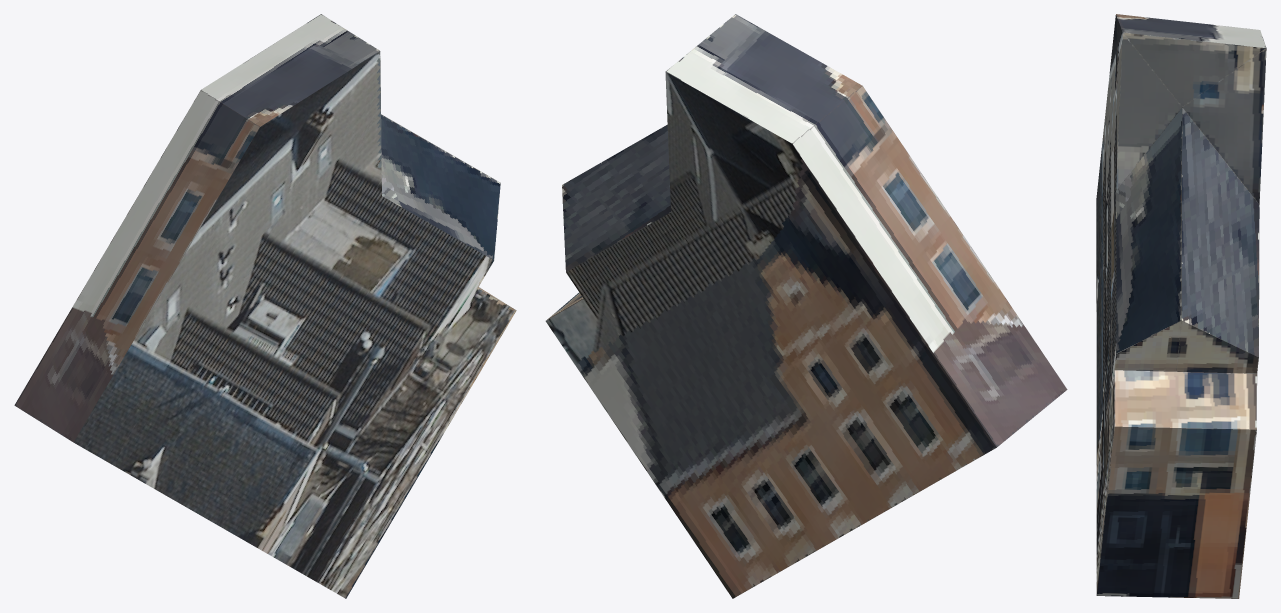
The picture shows the model from 3 angles, left to right: view 1: azimuth 30°, elevation 25°; view 2: azimuth 150°, elevation 25°; view 3: azimuth 270°, elevation 25°; orthographic projection. The views are drawn at different scales.
Parts seen in each view (by area): view 1: BAG_0599100000671724 (×3); view 2: BAG_0599100000671724 (×2); view 3: BAG_0599100000671724 (×5).
Boxes of the visible parts, bbox=[...] form: BAG_0599100000671724 (×3): bbox=[14, 14, 516, 598]; BAG_0599100000671724 (×2): bbox=[545, 14, 1067, 598]; BAG_0599100000671724 (×5): bbox=[1096, 14, 1266, 598].
Size of the model in its own units: 20.22 by 22.11 by 5.75.
Materials: 5 (5 with a texture image).
